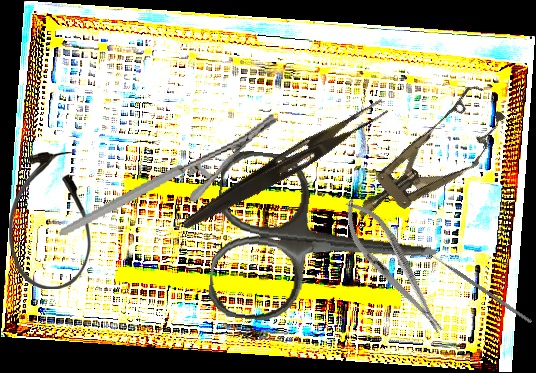Cannula: (9, 152, 91, 289)
Dressing Forceps: (179, 90, 391, 241)
Iris Scissors: (206, 148, 445, 338)
Needle Holder: (45, 113, 292, 236), (332, 190, 455, 344)
Pusher: (425, 250, 533, 324)
Speculum: (338, 78, 518, 242)
